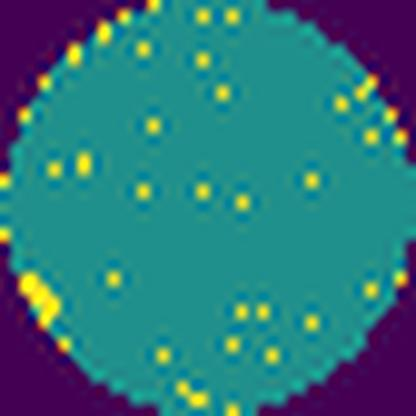Edge-Loc: (19, 269, 62, 331)
